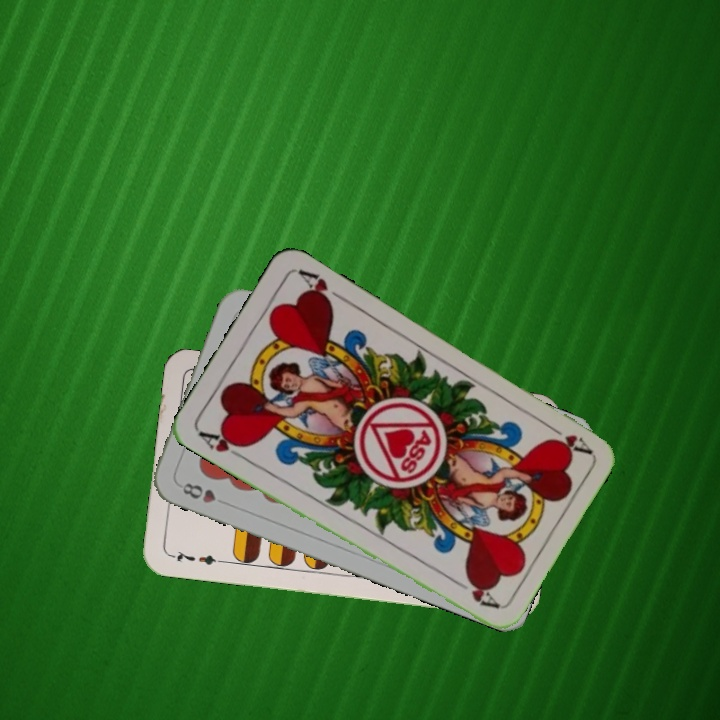E7: (167, 546, 226, 567)
H8: (175, 479, 219, 506)
HA: (540, 418, 593, 457), (194, 427, 250, 463)
